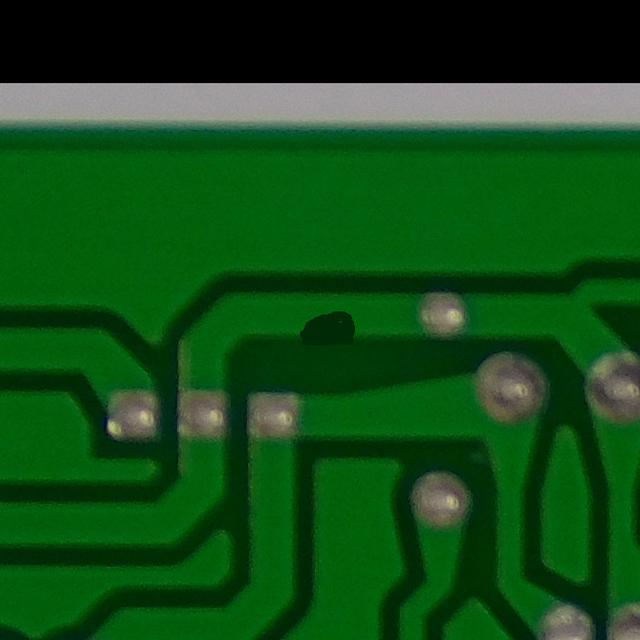mouse_bite: (274, 284, 367, 355)
